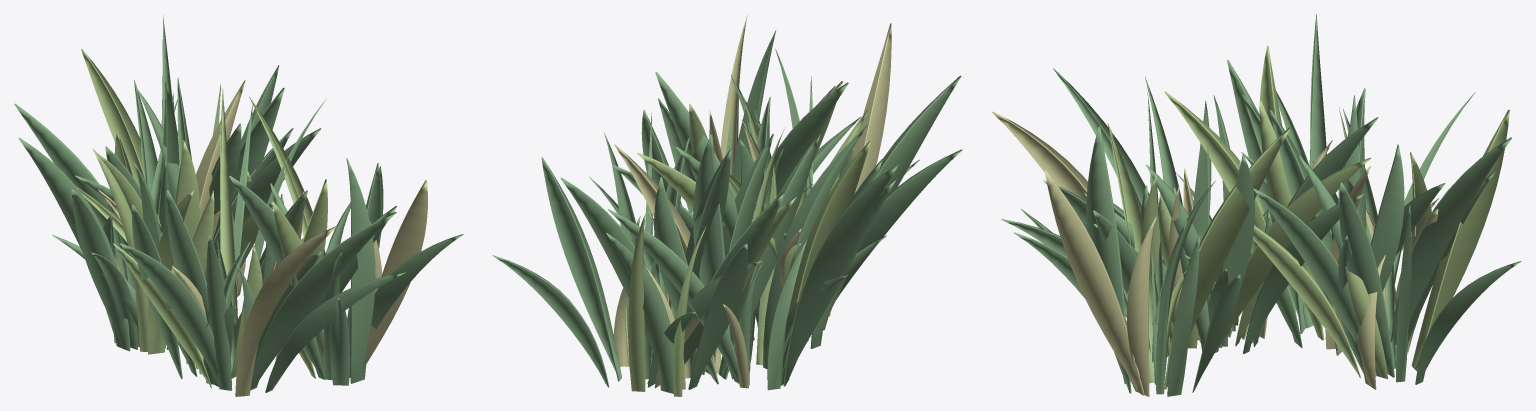
3 views of the same model, side by side, from view 1: azimuth 30°, elevation 25°; view 2: azimuth 150°, elevation 25°; view 3: azimuth 270°, elevation 25° (orthographic). The views are drawn at different scales.
Visible parts, largest first — view 1: grass_tall; view 2: grass_tall; view 3: grass_tall.
Boxes of the visible parts, bbox=[...] form: grass_tall: bbox=[14, 15, 463, 396]; grass_tall: bbox=[492, 15, 962, 396]; grass_tall: bbox=[992, 14, 1521, 396].
Bounding box in the file's own units: 1.06 × 0.7896 × 1.51.
